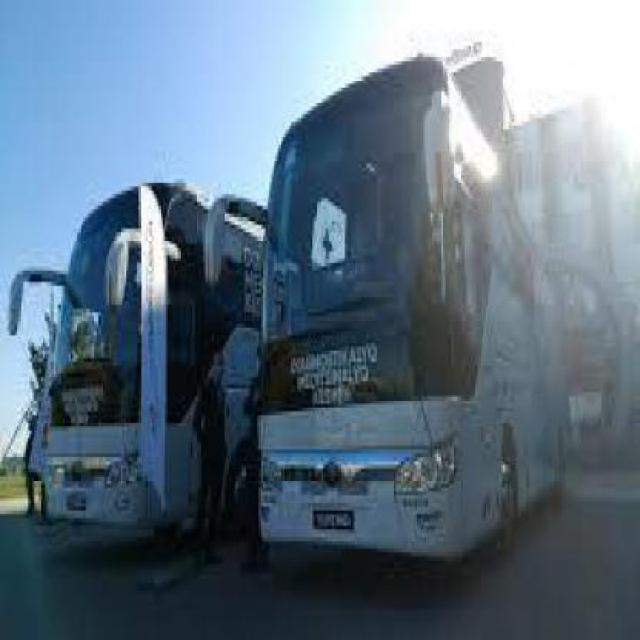bus: (202, 51, 568, 564)
